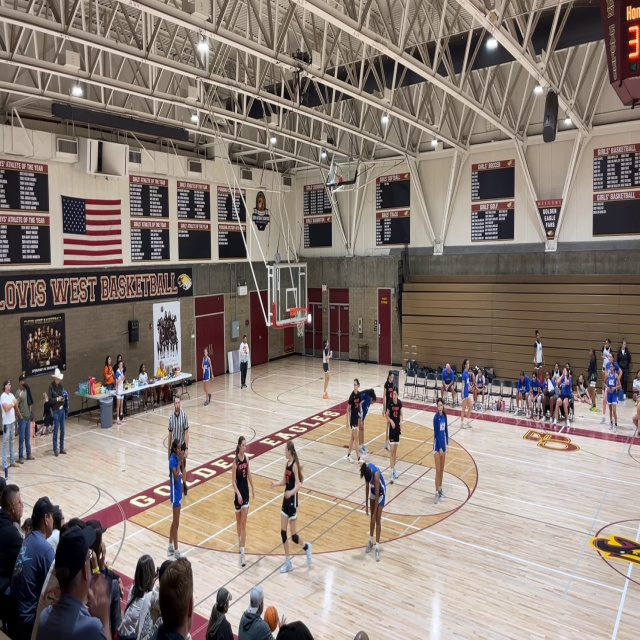Basketball: (263, 606, 279, 631)
